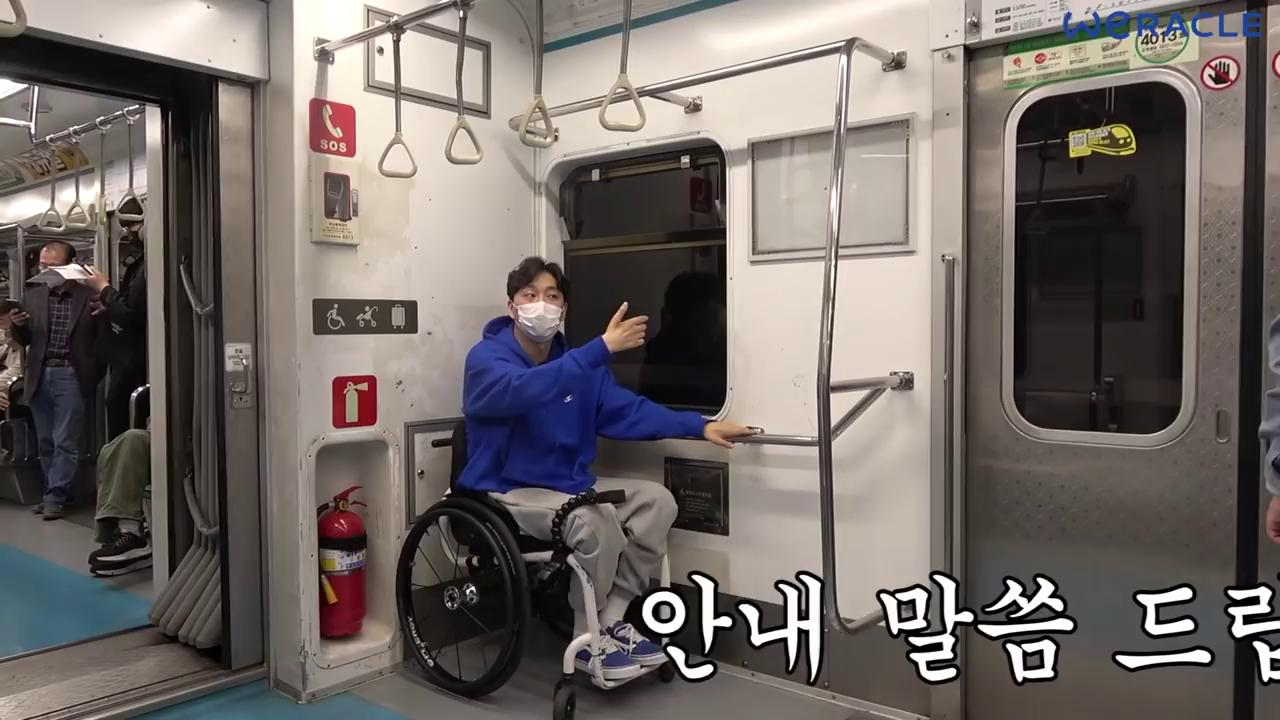wheelchair: (396, 257, 696, 709)
